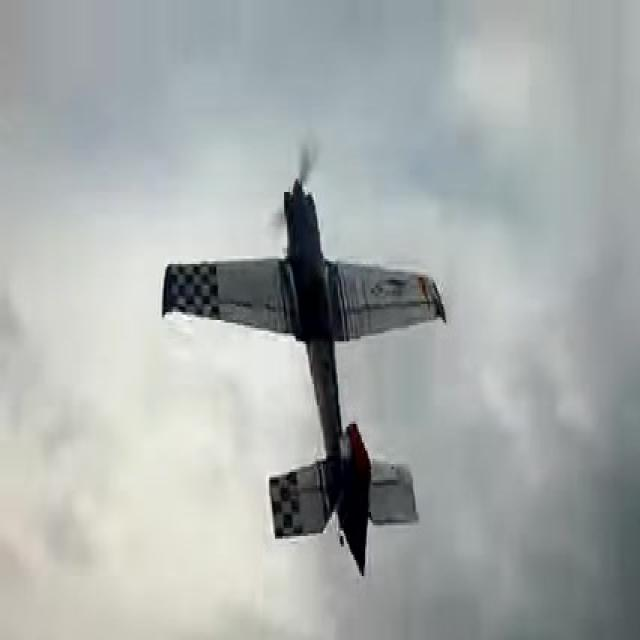iha: (160, 182, 448, 571)
